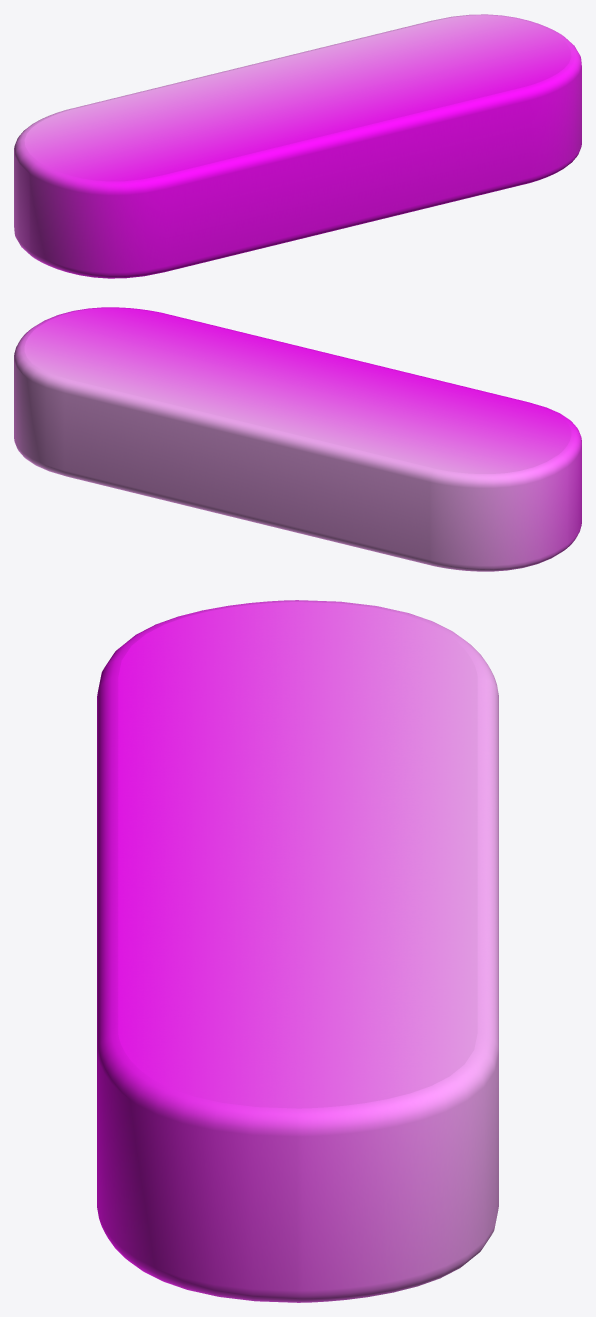
The model's file is Paddle-28.dae.
3 renders of one model, top to bottom at view 1: azimuth 30°, elevation 25°; view 2: azimuth 150°, elevation 25°; view 3: azimuth 270°, elevation 25°, orthographic. The views are drawn at different scales.
Parts seen in each view (by area): view 1: Paddle; view 2: Paddle; view 3: Paddle.
Part boxes in pixels (box(x1,y1,x2,y2)): Paddle: box(14, 14, 581, 278); Paddle: box(14, 307, 581, 571); Paddle: box(97, 600, 498, 1302).
Size of the model in its own units: 0.2922 by 0.05 by 0.0947.
1 material, 1 textured.
